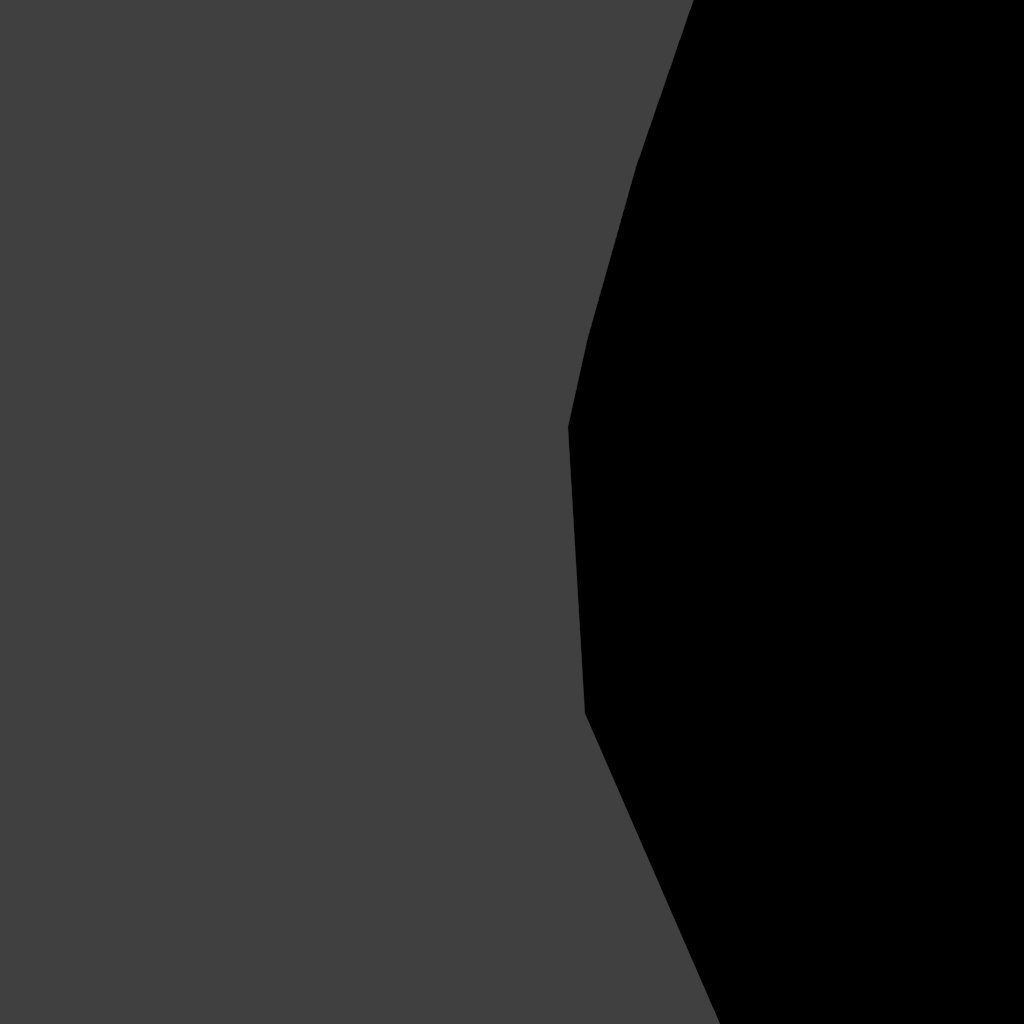Cat: (509, 0, 515, 1024)
